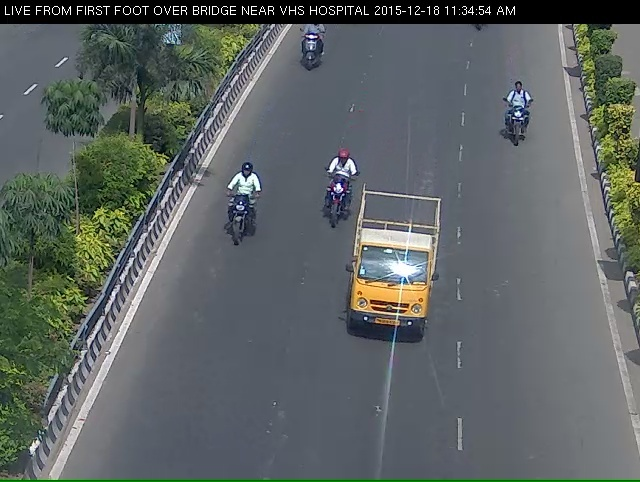Auto: (353, 199, 441, 361)
Person: (206, 167, 270, 273), (312, 163, 357, 249), (497, 88, 542, 162), (294, 22, 332, 80)
